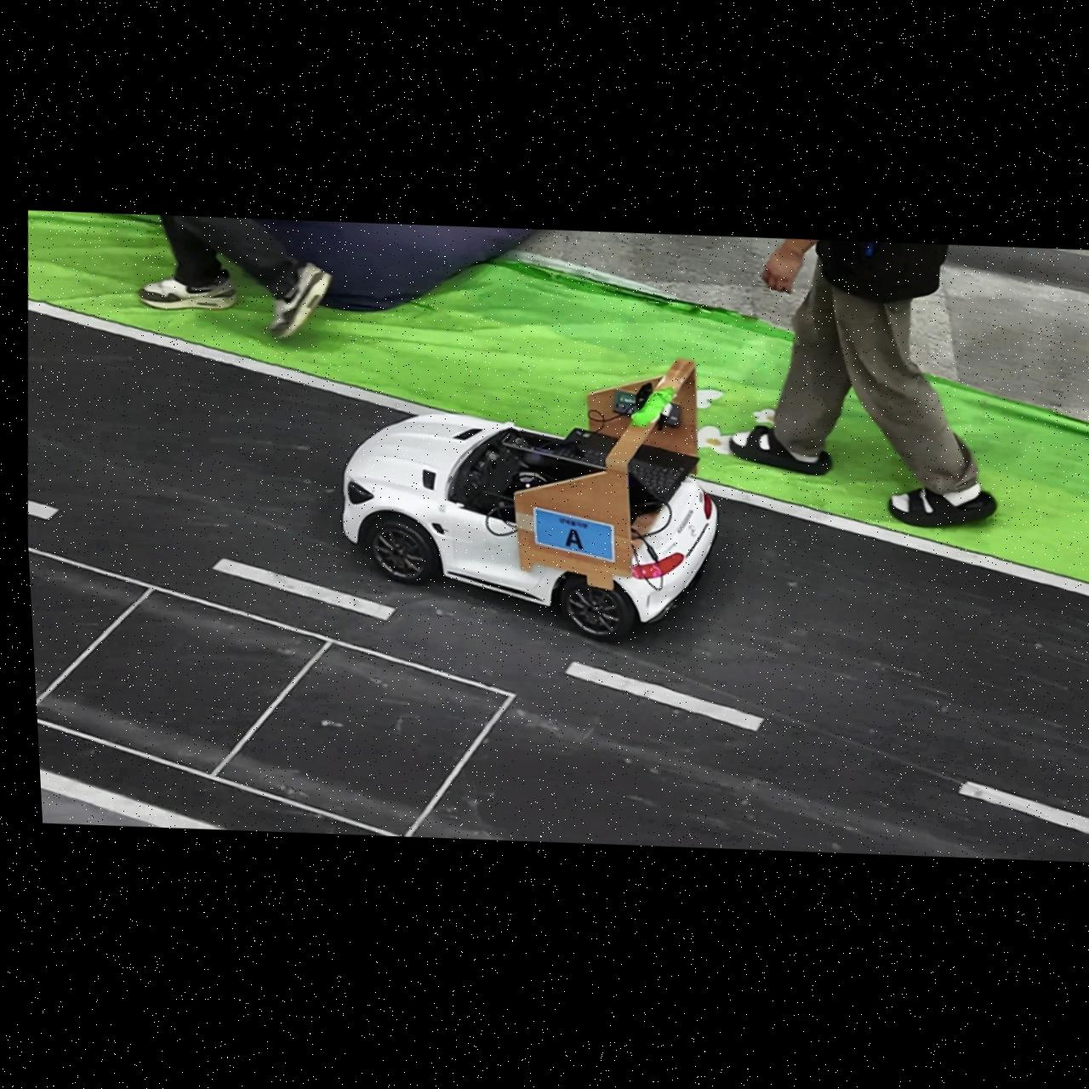broken_line: (566, 662, 763, 730), (213, 558, 394, 619), (959, 781, 1089, 834), (28, 500, 60, 519)
